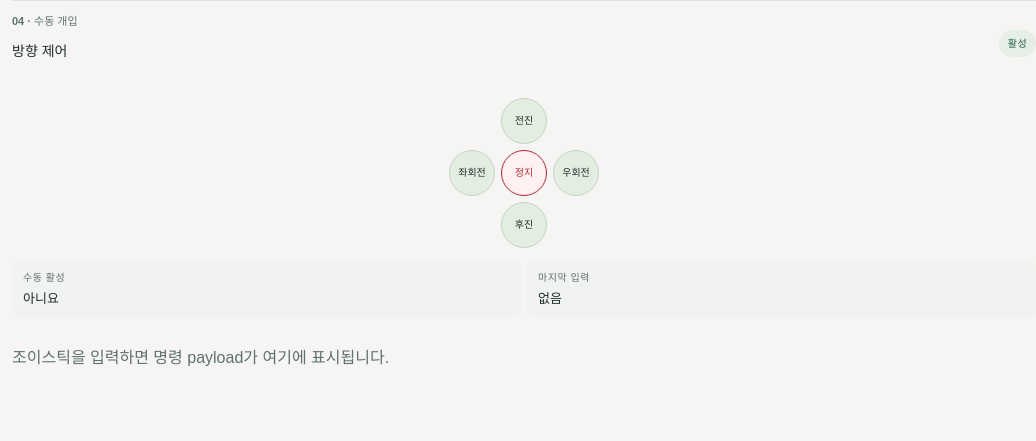
it: ManualJoystick 입력 수명 › 실패한 이동 전송은 반복을 멈추고 정지를 시도한다
The width and height of the screenshot is (1036, 441).
Press the mouse on the button with aria-label "수동 전진" at (524, 121), box [501, 98, 547, 144]
Wait 1000 ms
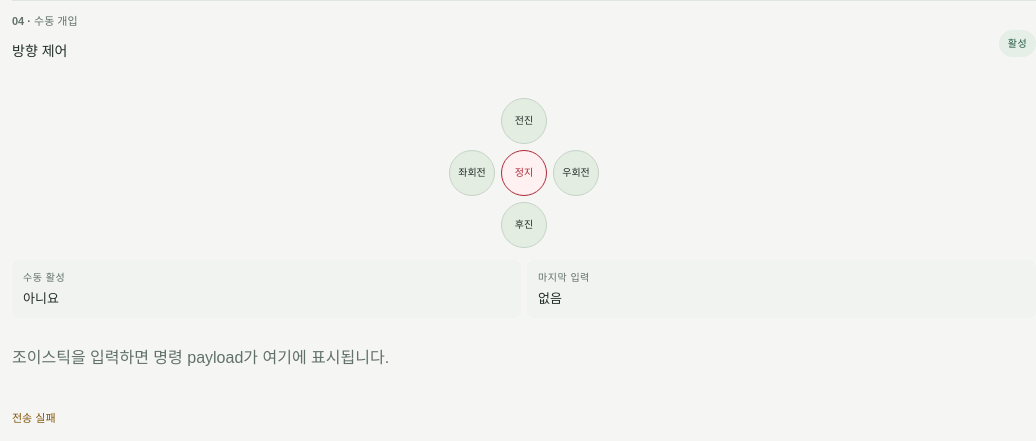
Now the text "전송 실패" is shown, box [12, 412, 56, 424]
